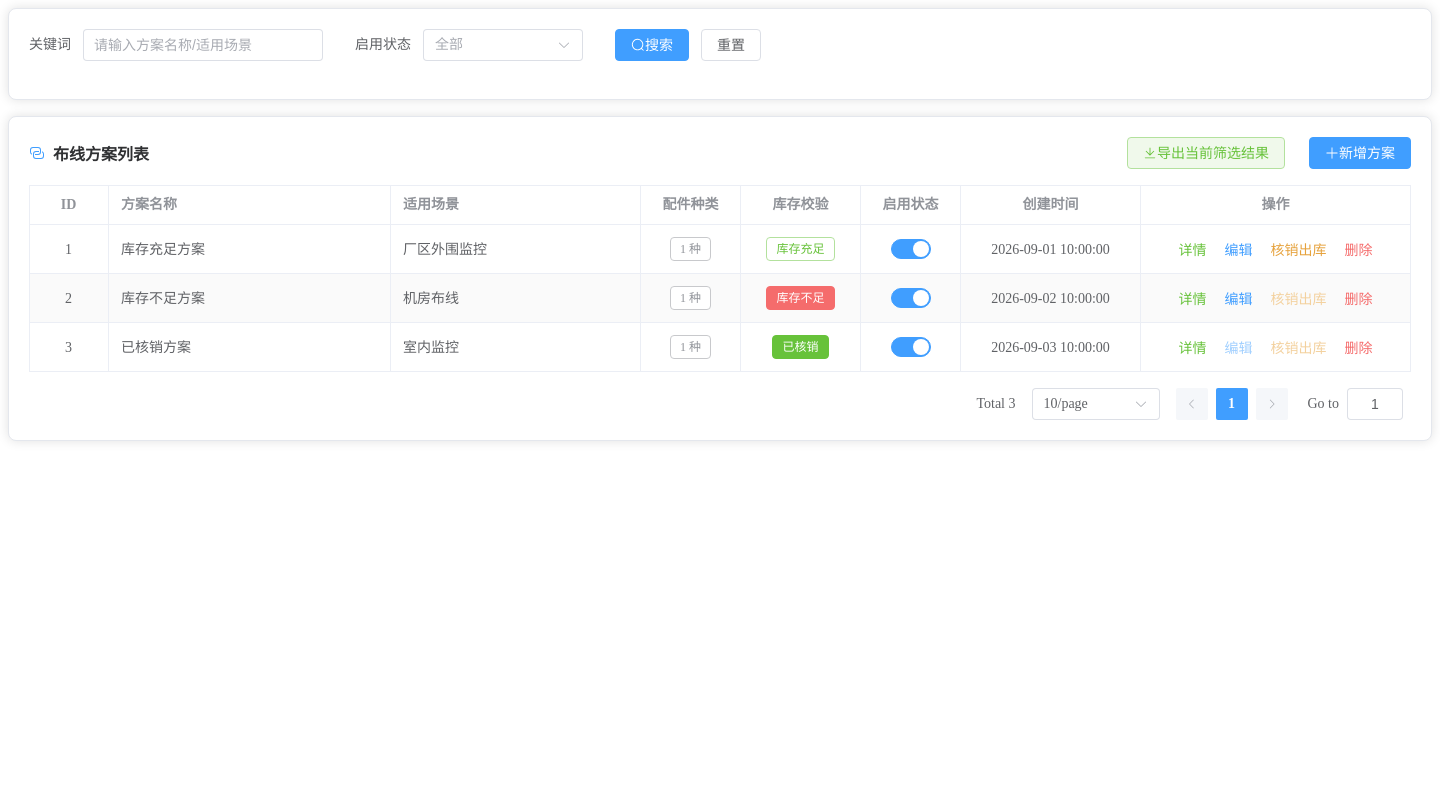
Test: 布线方案 - 核销出库 › 已核销方案：详情展示领料人与领料说明，刷新后与核销标记同源可对账
This screenshot has width=1440, height=810.
Click the button "详情" in the row of "已核销方案" at (1192, 348), box [1176,338,1210,358]
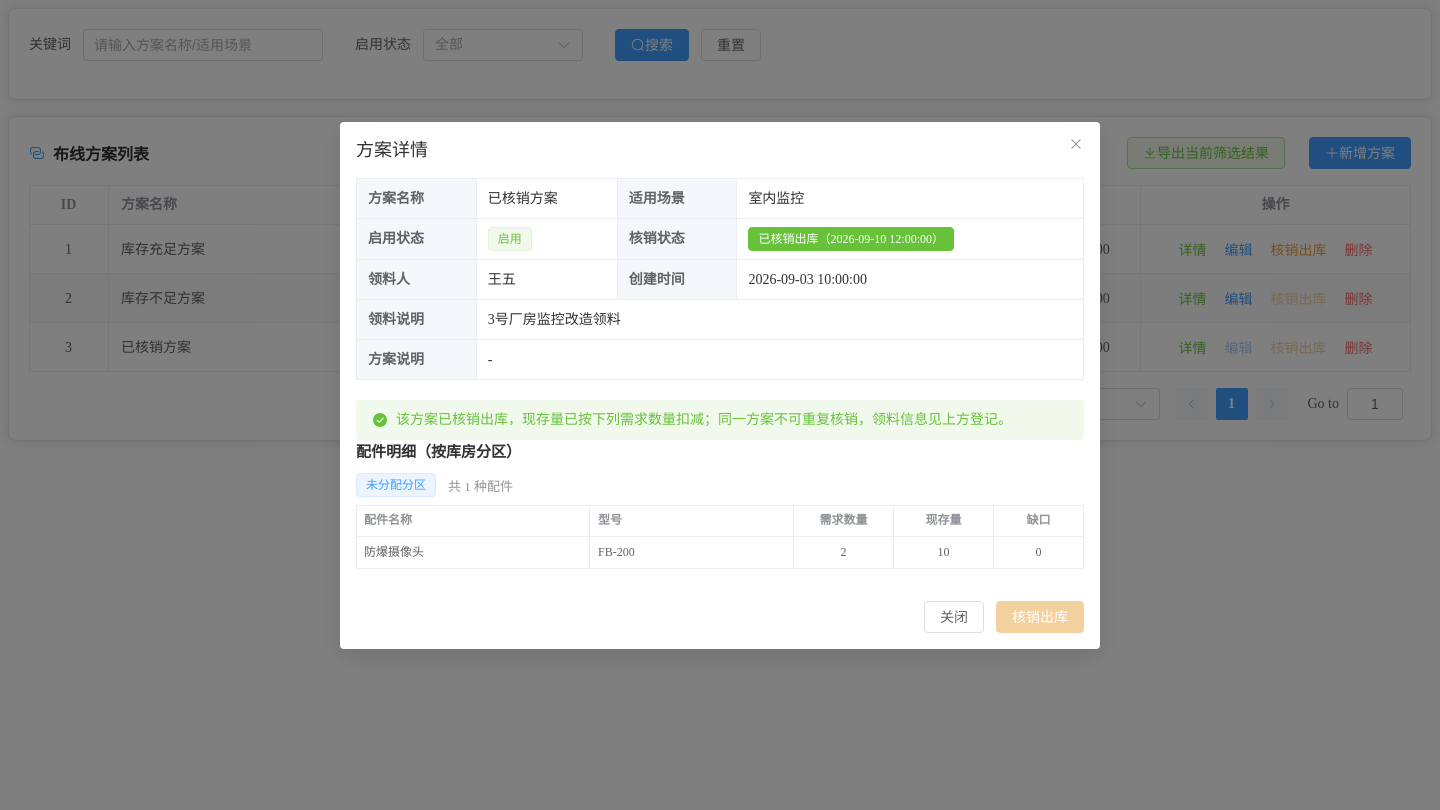
expect the element that starts with "方案详情" shows "已核销出库": met, box [758,232,944,246]
expect the element that starts with "方案详情" shows "王五": met, box [488,272,516,287]
expect the element that starts with "方案详情" shows "3号厂房监控改造领料": met, box [488,312,621,327]
